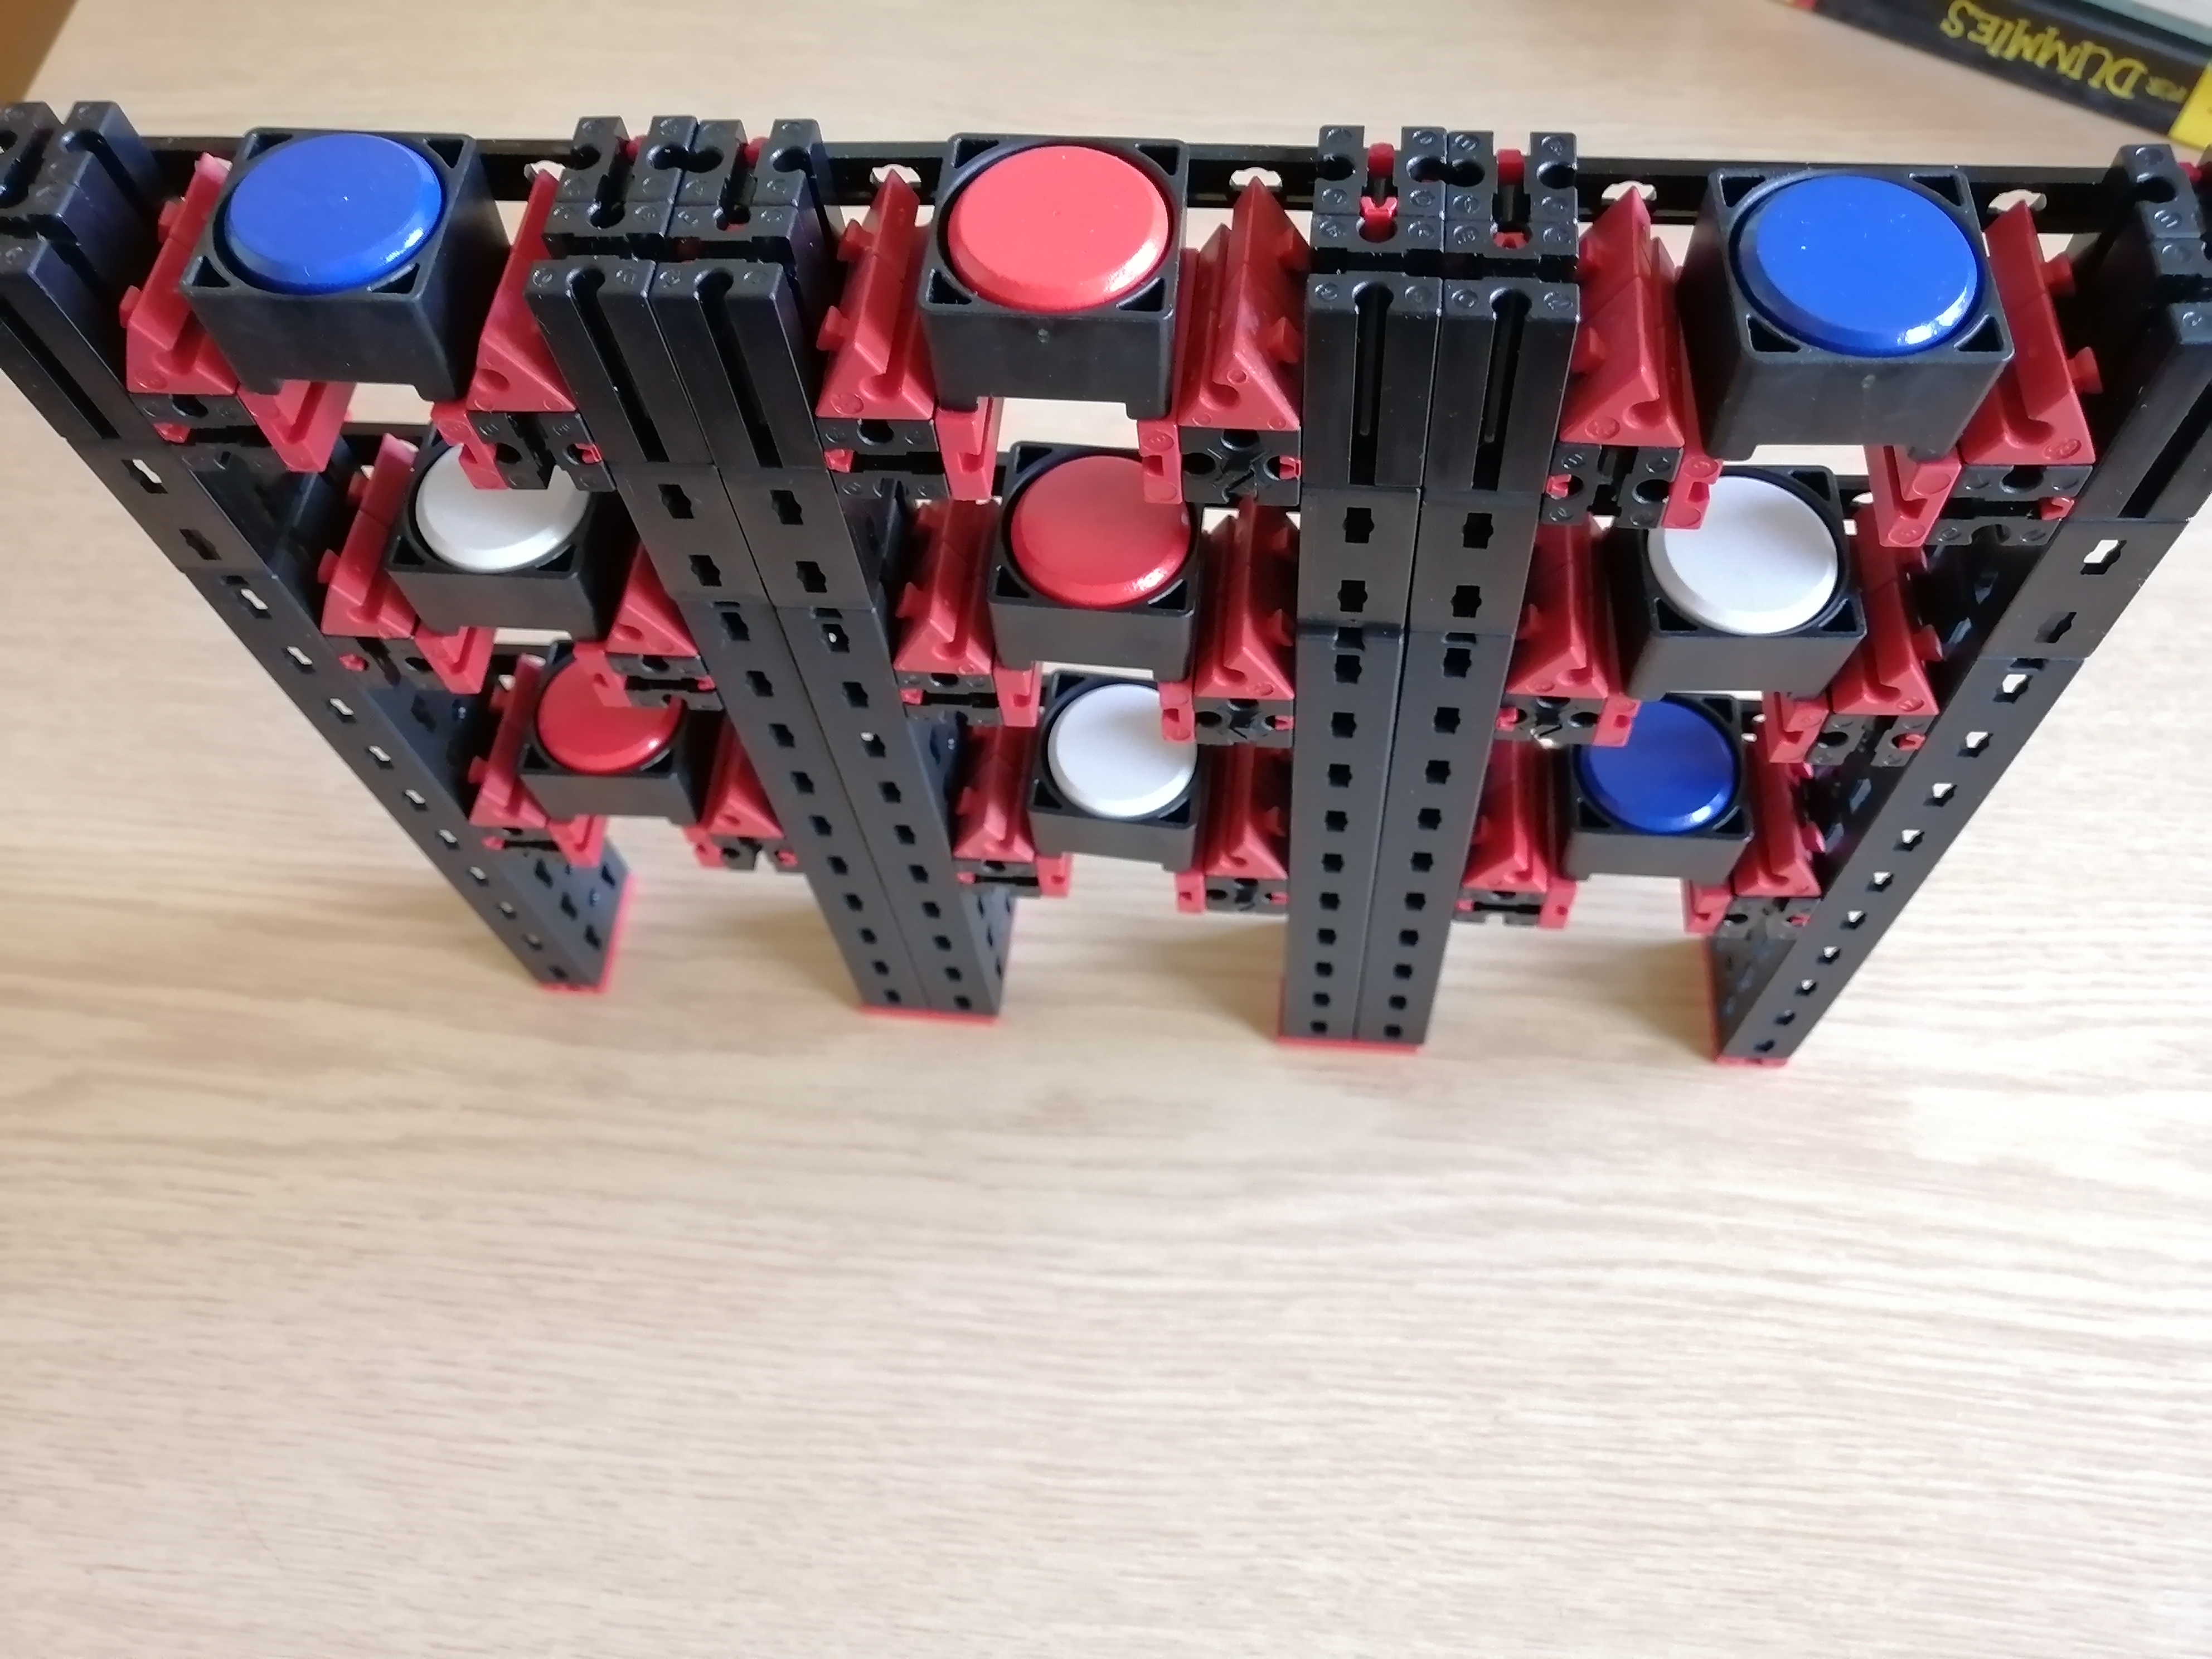Behaelter: (1684, 159, 2005, 450), (199, 127, 486, 397), (923, 134, 1176, 410), (1615, 476, 1858, 699), (399, 425, 615, 633), (1000, 444, 1163, 678), (1557, 718, 1747, 878), (1036, 674, 1200, 854), (524, 674, 704, 812)
WerkStueck: (1756, 178, 1979, 347), (960, 153, 1157, 303), (232, 138, 432, 275), (1660, 484, 1841, 631), (1005, 455, 1181, 605), (1052, 690, 1186, 821), (420, 464, 582, 568), (1602, 709, 1728, 826), (531, 688, 683, 770)
